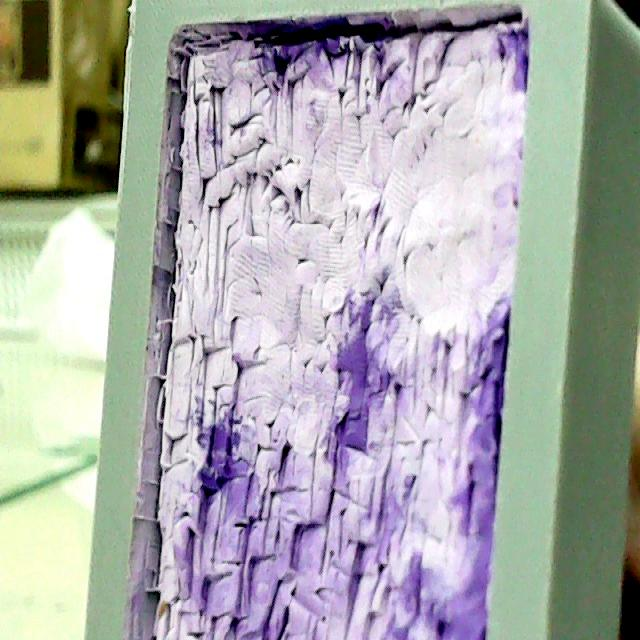block: (85, 0, 640, 639)
